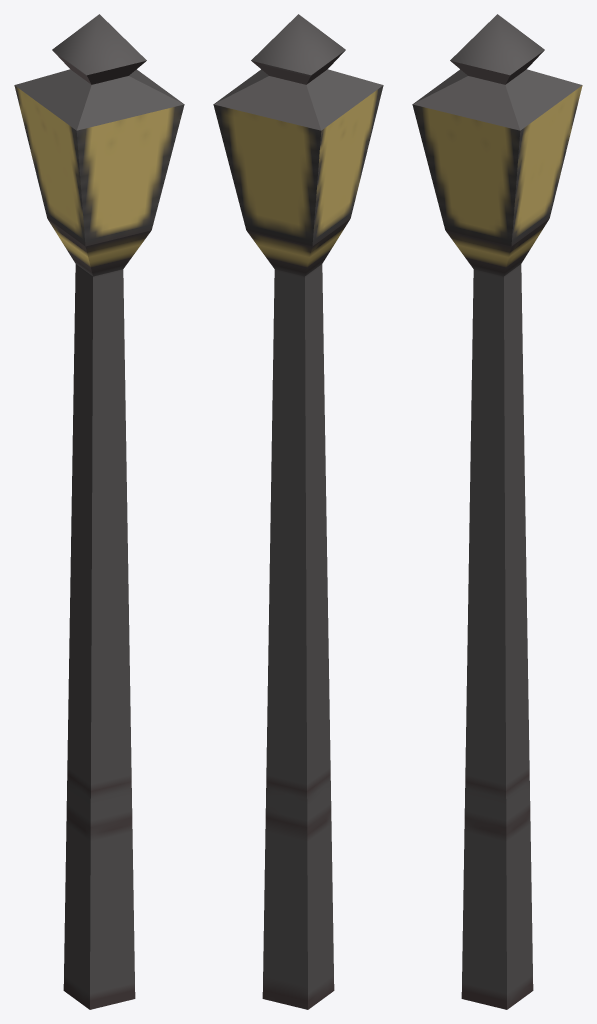
Rendered from Streetlamp.FBX.
3 views of the same model, side by side, from view 1: azimuth 30°, elevation 25°; view 2: azimuth 150°, elevation 25°; view 3: azimuth 330°, elevation 25° (orthographic).
Visible parts, largest first — view 1: Box006; view 2: Box006; view 3: Box006.
Part boxes in pixels (x1,y1,x2,y2): Box006: (14,14,184,1009); Box006: (213,14,383,1009); Box006: (412,14,582,1009).
Size of the model in its own units: 4.25 by 36.95 by 4.25.
